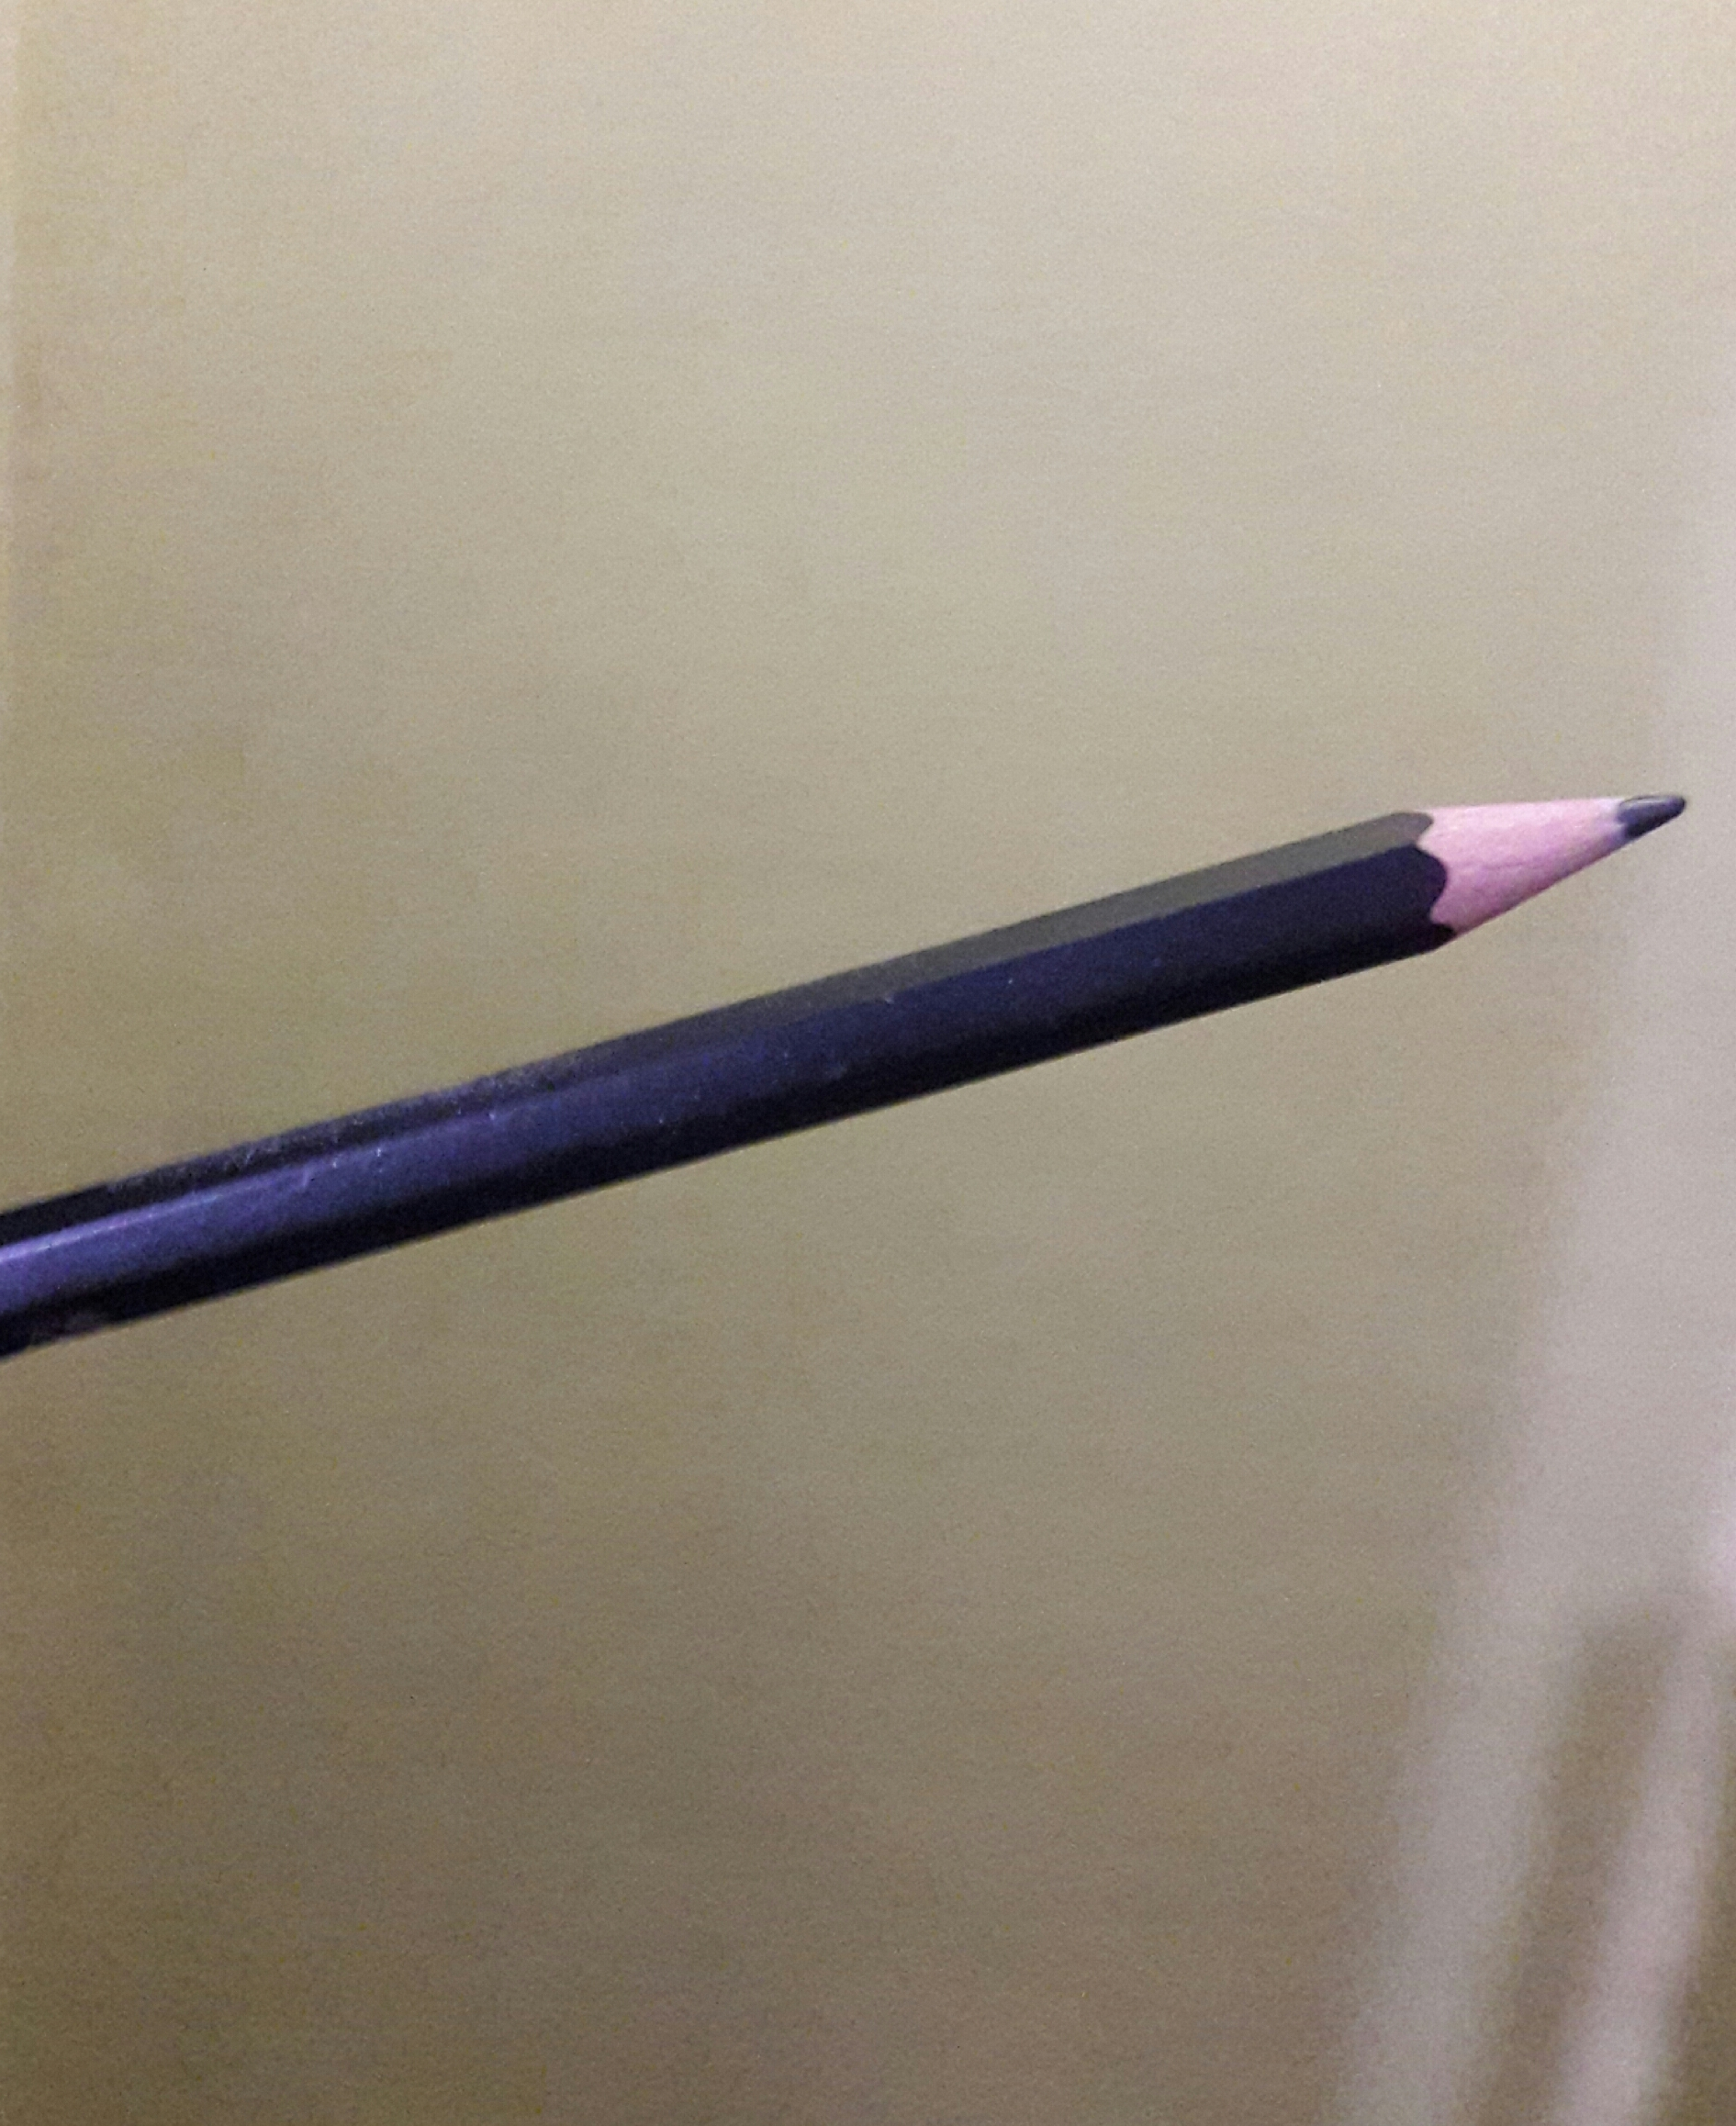pen_tip: (1321, 708, 1711, 1072)
